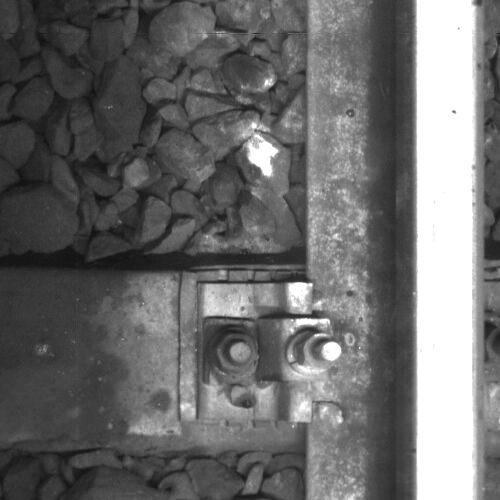kb: (200, 282, 343, 419)
nut: (295, 328, 345, 372), (214, 329, 260, 375)
rail: (415, 1, 485, 500)
tie_concr: (1, 270, 304, 438)
